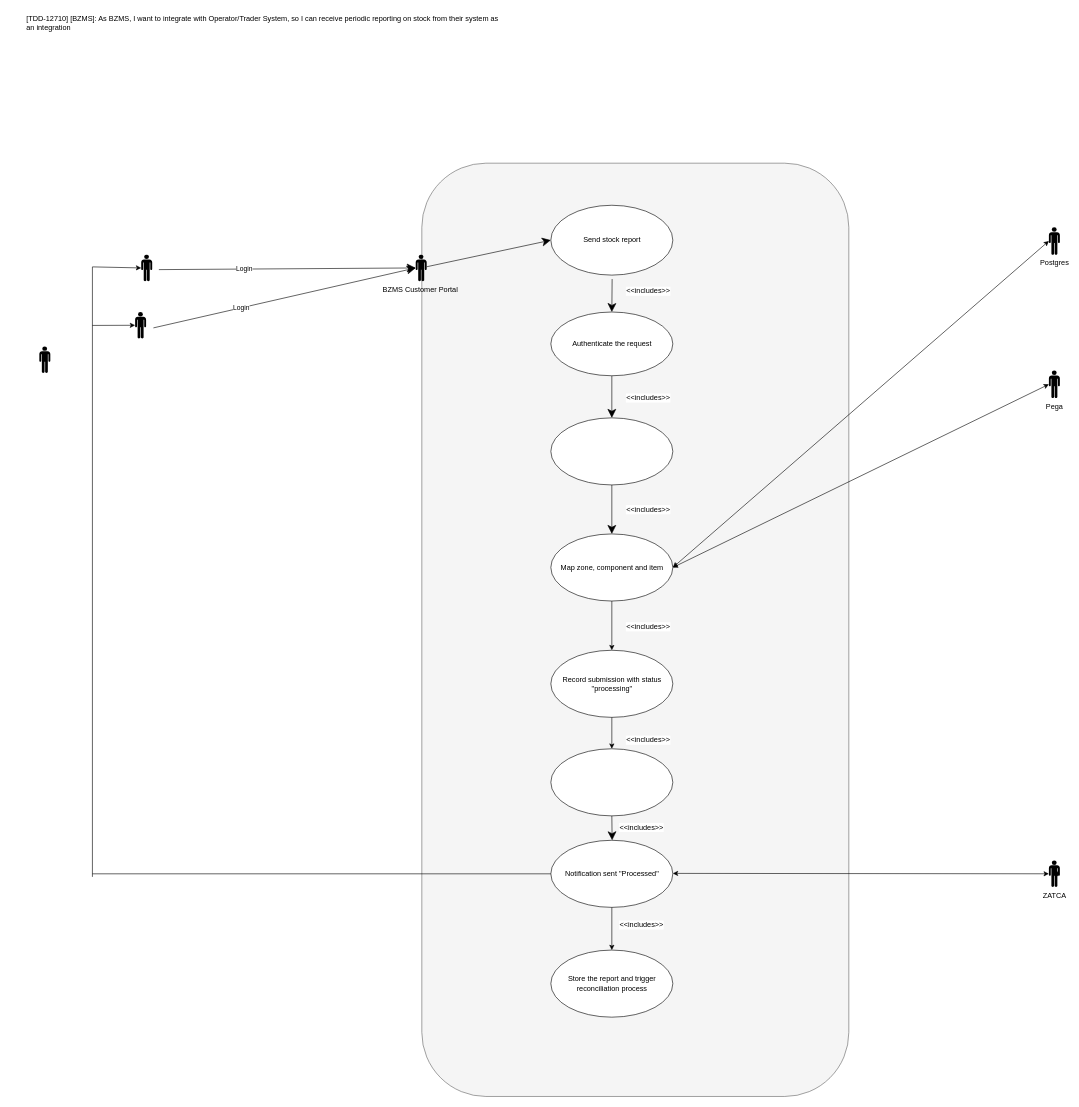
Some shapes in this 1079 by 1107 pixel diagram are drawn without their labels. The shapes that lost their labels are listed below. From the top down, each one's box as (x1, y1, x2, y2) in pixels, then its label:
(141, 254, 152, 281): Operator/Trader
(135, 312, 146, 338): Component Operator(CO)
(39, 346, 50, 373): Authorized Applicant
(550, 417, 673, 485): validate payload and mandatory fields
(550, 748, 673, 816): Update inventory
